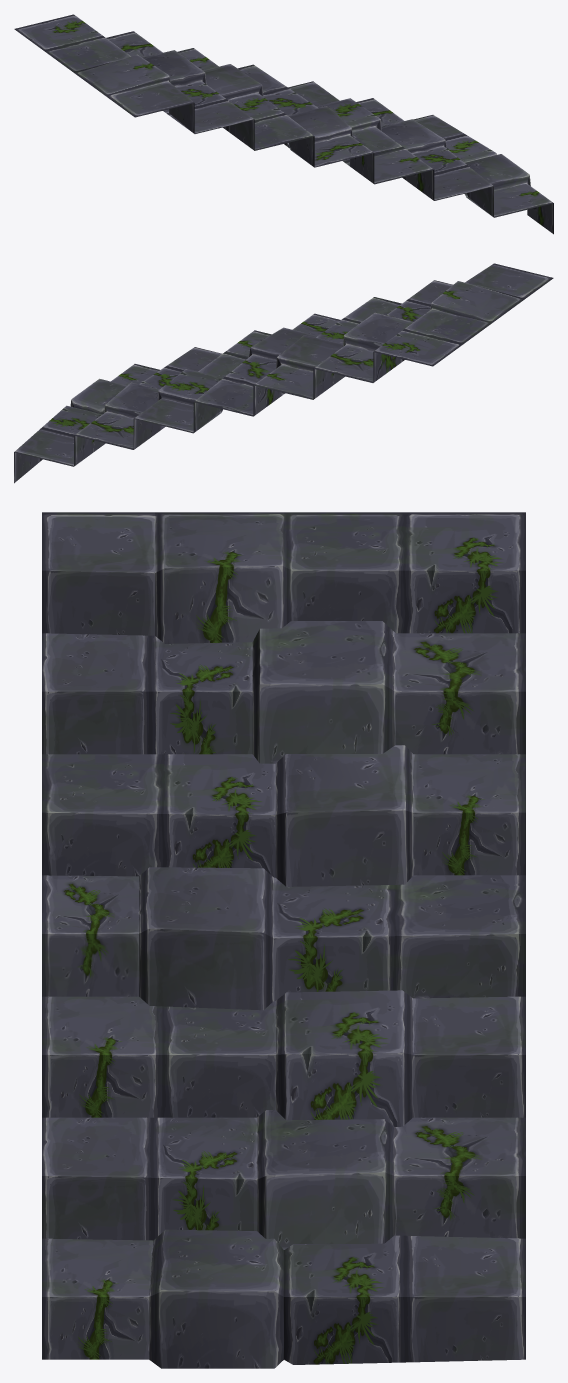
The model's file is MOD_Stairs_01_E_straight_3_half.fbx.
3 views of the same model, one above another, from view 1: azimuth 30°, elevation 25°; view 2: azimuth 150°, elevation 25°; view 3: azimuth 270°, elevation 25° (orthographic). The views are drawn at different scales.
Visible parts, largest first — view 1: MOD_Stairs_01_E_straight_3_half; view 2: MOD_Stairs_01_E_straight_3_half; view 3: MOD_Stairs_01_E_straight_3_half.
Part boxes in pixels (x1=…): MOD_Stairs_01_E_straight_3_half: x1=14, y1=14, x2=553, y2=234; MOD_Stairs_01_E_straight_3_half: x1=14, y1=263, x2=553, y2=483; MOD_Stairs_01_E_straight_3_half: x1=42, y1=512, x2=525, y2=1368.
Size of what is drawn, in the model's own units: 409 by 203 by 200.
